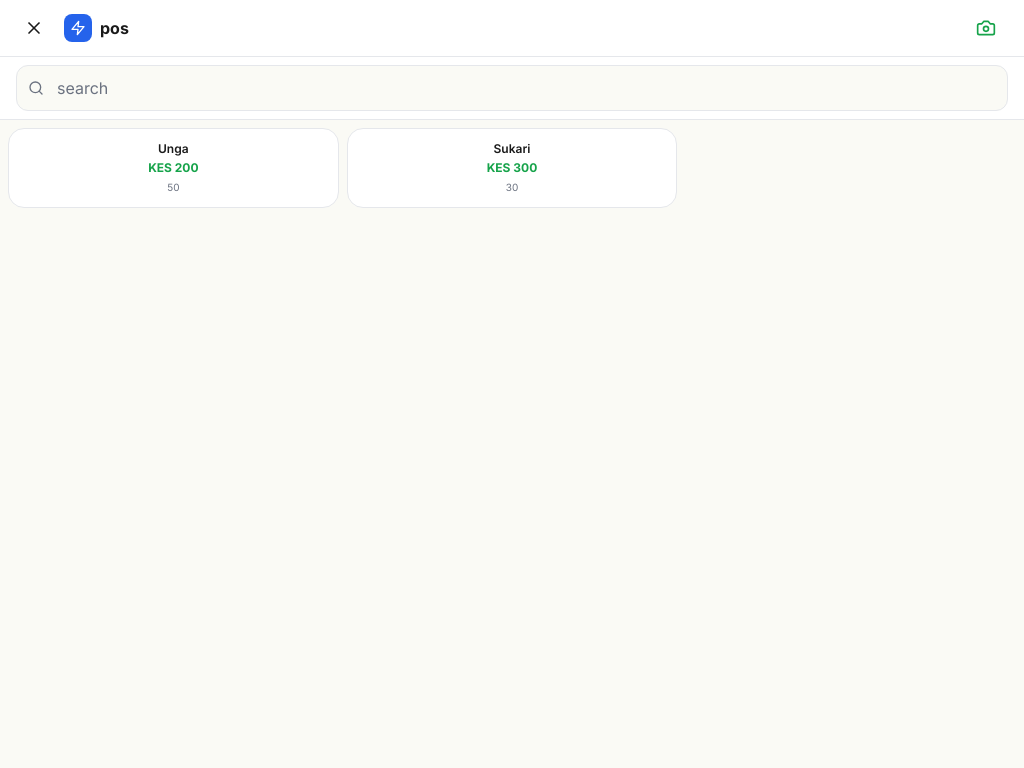
Test: PosScreen — Money Safety › adds item to cart and shows checkout button
The width and height of the screenshot is (1024, 768).
Click the button "Unga KES 200 50" at (173, 168), box [8, 128, 339, 208]
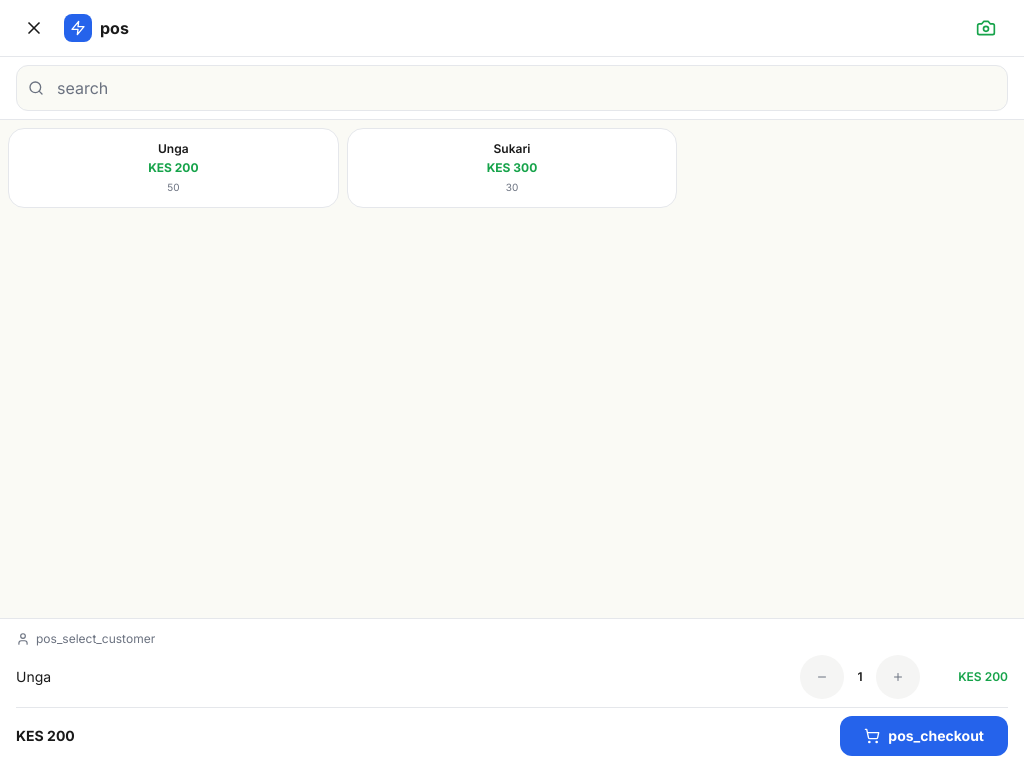
Check: the button "pos_checkout" is shown, box [840, 716, 1008, 756]
